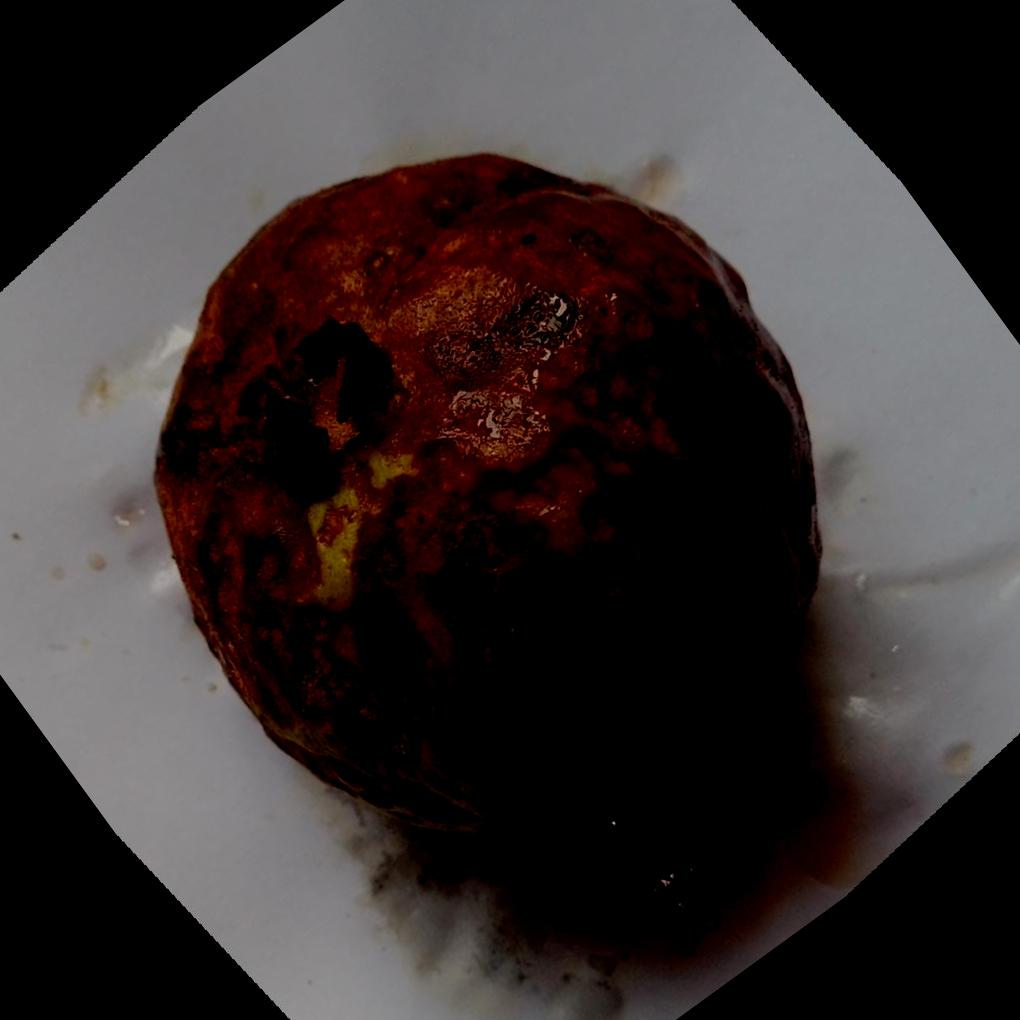FreshOrange: (149, 151, 823, 842)
